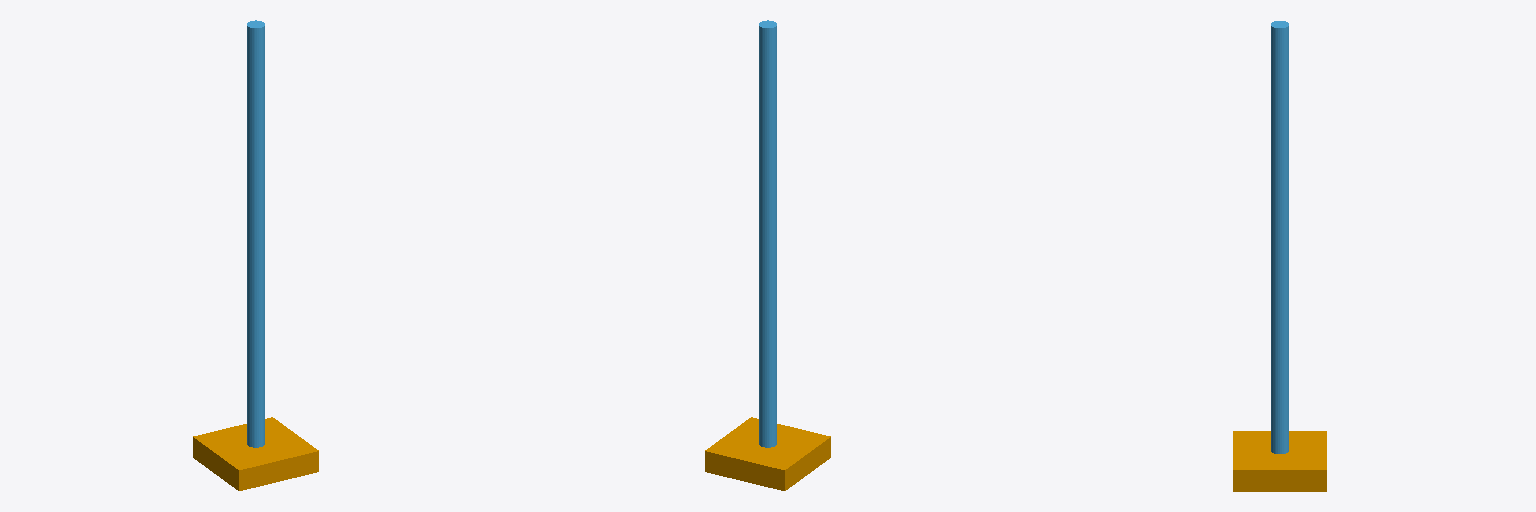
The robot description file, URDF, robot "pendulum":
<?xml version="1.0"?>
<robot name="pendulum">
  <link name="base">
    <inertial>
      <mass value="1.0"/>
      <inertia ixx="0.01" ixy="0" ixz="0" iyy="0.01" iyz="0" izz="0.01"/>
    </inertial>
    <visual>
      <geometry>
        <box size="0.2 0.2 0.05"/>
      </geometry>
    </visual>
    <collision>
      <geometry>
        <box size="0.2 0.2 0.05"/>
      </geometry>
    </collision>
  </link>
  <link name="pole">
    <inertial>
      <origin xyz="0 0 0.5"/>
      <mass value="0.1"/>
      <inertia ixx="0.008" ixy="0" ixz="0" iyy="0.008" iyz="0" izz="0.0001"/>
    </inertial>
    <visual>
      <origin xyz="0 0 0.5"/>
      <geometry>
        <cylinder radius="0.02" length="1.0"/>
      </geometry>
    </visual>
    <collision>
      <origin xyz="0 0 0.5"/>
      <geometry>
        <cylinder radius="0.02" length="1.0"/>
      </geometry>
    </collision>
  </link>
  <joint name="pivot" type="continuous">
    <parent link="base"/>
    <child link="pole"/>
    <origin xyz="0 0 0.025"/>
    <axis xyz="0 1 0"/>
  </joint>
</robot>

--- What the picture shows (computed from the rendered views, not written in the file) ---
Views: 3 orthographic renders of the robot side by side, from view 1: azimuth 30°, elevation 25°; view 2: azimuth 150°, elevation 25°; view 3: azimuth 270°, elevation 25°.
Robot: pendulum — 2 links, 1 joints (1 continuous); root link base; default pose: every joint at zero.
Visible links, largest first — view 1: pole, base; view 2: pole, base; view 3: pole, base.
Boxes of the visible links, x1,y1,x2,y2 form: pole: (247, 20, 264, 447); base: (193, 417, 318, 490); pole: (759, 20, 776, 447); base: (705, 417, 830, 490); pole: (1271, 21, 1288, 453); base: (1233, 431, 1326, 491).
Bounding box of the posed robot: 0.2 × 0.2 × 1.05 m (x, y, z).
Geometry: primitives only (box / cylinder / sphere), no mesh files.
